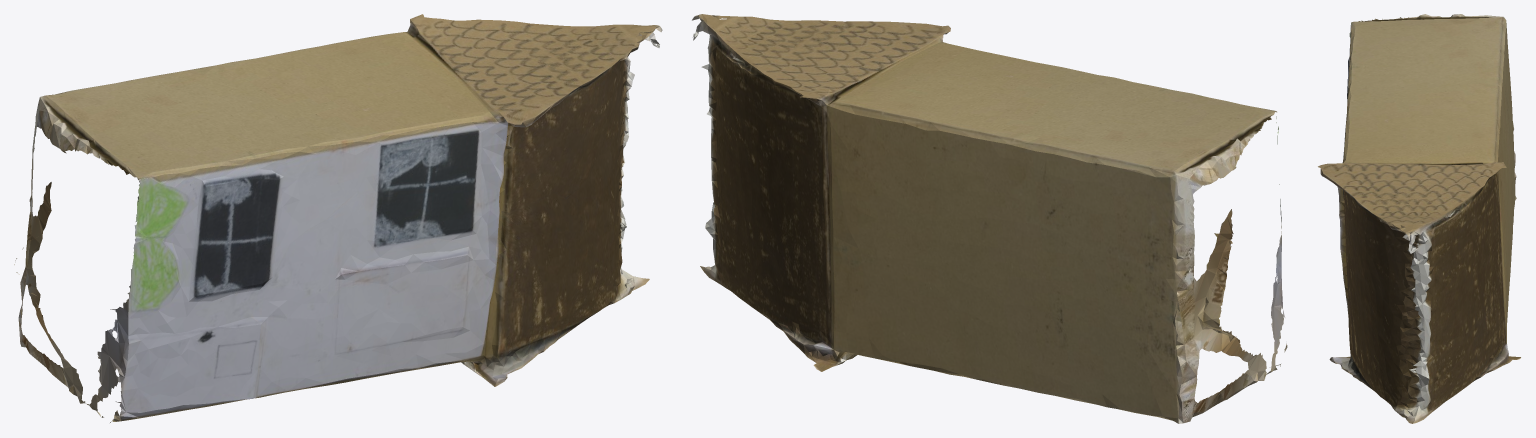
File: m17_5K_1024tex.glb
3 views of the same model, side by side, from view 1: azimuth 30°, elevation 25°; view 2: azimuth 150°, elevation 25°; view 3: azimuth 270°, elevation 25° (orthographic). The views are drawn at different scales.
Bounding box in the file's own units: 4.61 × 2.14 × 1.81.
Materials: 1 (1 with a texture image).
